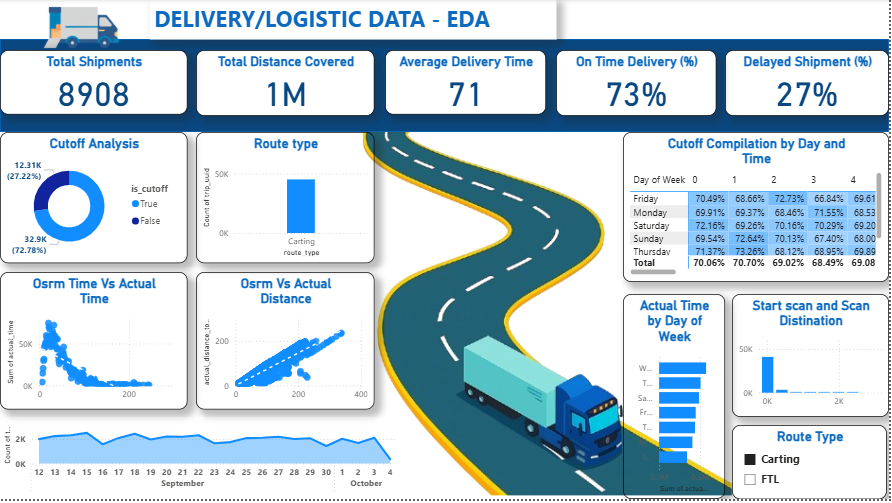

Layout of this report page (visuals, bound fields, positions):
{"tool":"powerbi","page":{"name":"Page 1","canvas":[1280,720],"ordinal":0},"visuals":[{"type":"image","box":[244.8,28.8,937.4,691.2],"z":0},{"type":"shape","box":[0,57.6,1280.2,133.9],"z":1000},{"type":"card","title":"Delayed Shipment (%)","fields":{"Values":["delhivery.Delayed Shipment (%)"]},"box":[1044,73.3,236,94.7],"z":2000},{"type":"card","title":"On Time Delivery (%)","fields":{"Values":["delhivery.On-Time Deliveries (%)"]},"box":[800.9,73.3,230.6,94.7],"z":3000},{"type":"card","title":"Average Delivery Time","fields":{"Values":["Avg(delhivery.actual_time)"]},"box":[554.2,73.3,232.4,93],"z":4000},{"type":"card","title":"Total Distance Covered","fields":{"Values":["Sum(delhivery.actual_distance_to_destination)"]},"box":[282.5,73.3,257.4,94.7],"z":5000},{"type":"card","title":"Total Shipments","fields":{"Values":["Count(delhivery.trip_uuid)"]},"box":[0,73.3,269.9,93],"z":6000},{"type":"textbox","box":[216,0,584.6,57.6],"z":7000},{"type":"image","box":[47.5,0,141.1,90.7],"z":8000},{"type":"donutChart","title":"Cutoff Analysis","fields":{"Category":["delhivery.is_cutoff"],"Y":["CountNonNull(delhivery.trip_uuid)"]},"box":[0,191.3,269.9,189.5],"z":9000},{"type":"pivotTable","title":"Cutoff Compilation by Day and Time","fields":{"Rows":["delhivery.Day of Week"],"Columns":["delhivery.Day of Hour"],"Values":["delhivery.On-Time Deliveries (%)"]},"box":[897.1,191.5,383,216],"z":10000},{"type":"scatterChart","title":"Osrm Time Vs Actual Time","fields":{"X":["delhivery.osrm_time"],"Y":["Sum(delhivery.actual_time)"]},"box":[0,393.3,269.9,198.4],"z":11000},{"type":"columnChart","title":" Route type","fields":{"Category":["delhivery.route_type"],"Y":["CountNonNull(delhivery.trip_uuid)"]},"box":[282.5,191.3,257.4,189.5],"z":12000},{"type":"columnChart","title":"Start scan and Scan Distination","fields":{"Category":["delhivery.start_scan_to_end_scan (bins)"],"Y":["CountNonNull(delhivery.trip_creation_time)"]},"box":[1054.1,424.8,226.1,177.1],"z":13000},{"type":"scatterChart","title":"Osrm  Vs Actual Distance","fields":{"X":["delhivery.osrm_distance"],"Y":["delhivery.actual_distance_to_destination"]},"box":[282.5,393.3,257.4,198.4],"z":14000},{"type":"areaChart","fields":{"Category":["delhivery.od_start_time.Variation.Date Hierarchy.Month","delhivery.od_start_time.Variation.Date Hierarchy.Day"],"Y":["CountNonNull(delhivery.trip_uuid)"]},"box":[0,601.9,576,118.1],"z":15000},{"type":"barChart","title":"Actual Time by Day of Week","fields":{"Category":["delhivery.Day of Week"],"Y":["Sum(delhivery.actual_time)"]},"box":[897.1,424.8,146.9,295.2],"z":16000},{"type":"slicer","title":"Route Type","fields":{"Values":["delhivery.route_type"]},"box":[1054.1,613.4,223.2,106.6],"z":17000}]}

Visuals, with their boxes in screenshot pixels (x1, y1, x2, y2), scaled from the page's 1280x720 canvas onto the 892x503 screenshot:
image: Rect(171, 20, 824, 502)
shape: Rect(0, 40, 891, 134)
"Delayed Shipment (%)" card: Rect(728, 51, 891, 117)
"On Time Delivery (%)" card: Rect(558, 51, 719, 117)
"Average Delivery Time" card: Rect(386, 51, 548, 116)
"Total Distance Covered" card: Rect(197, 51, 376, 117)
"Total Shipments" card: Rect(0, 51, 188, 116)
textbox: Rect(151, 0, 558, 40)
image: Rect(33, 0, 131, 63)
"Cutoff Analysis" donutChart: Rect(0, 134, 188, 266)
"Cutoff Compilation by Day and Time" pivotTable: Rect(625, 134, 891, 285)
"Osrm Time Vs Actual Time" scatterChart: Rect(0, 275, 188, 413)
" Route type" columnChart: Rect(197, 134, 376, 266)
"Start scan and Scan Distination" columnChart: Rect(735, 297, 891, 420)
"Osrm  Vs Actual Distance" scatterChart: Rect(197, 275, 376, 413)
areaChart - delhivery.od_start_time.Variation.Date Hierarchy.Month x delhivery.od_start_time.Variation.Date Hierarchy.Day: Rect(0, 420, 401, 502)
"Actual Time by Day of Week" barChart: Rect(625, 297, 728, 502)
"Route Type" slicer: Rect(735, 429, 890, 502)
